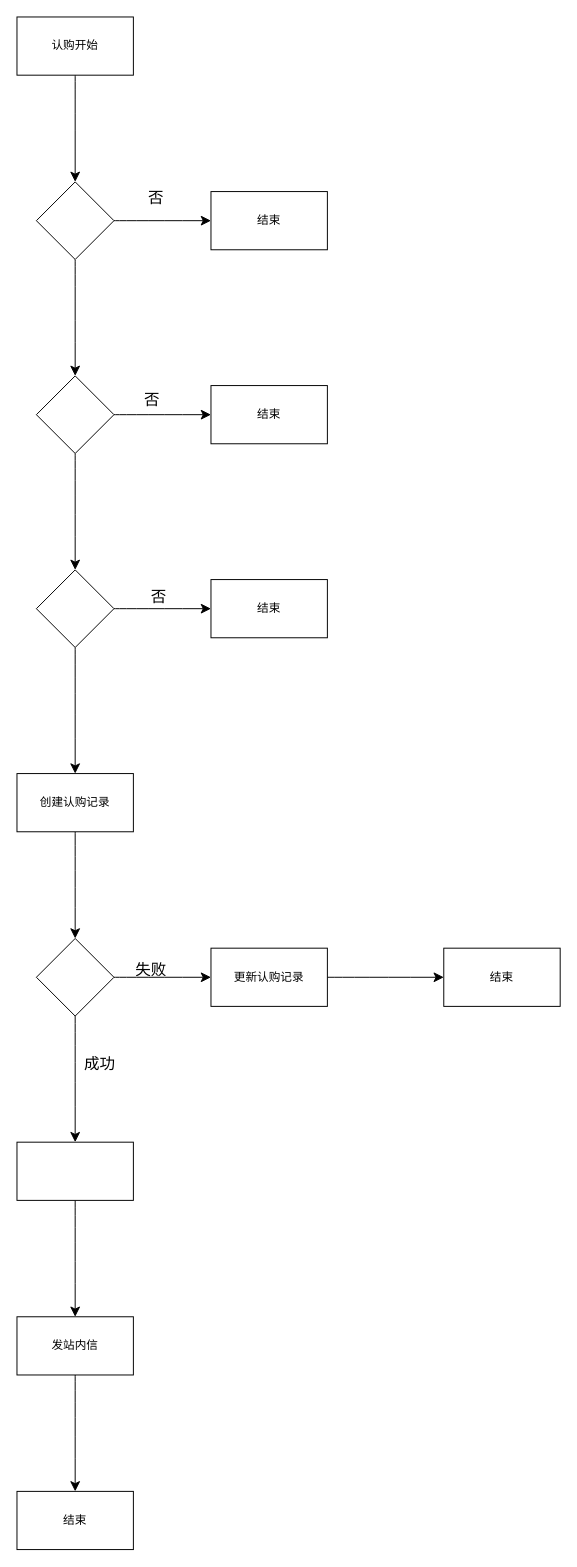
The diagram is 577 pixels wide and 1567 high, and some of its shapes have lost their labels. Here are the shapes that lost their labels. From the top down, the centre of each, then its label:
At (74,220): "是否在认购期".
At (74,414): "认购数量是否大于最小认购".
At (74,608): "用户资产是否足够".
At (74,977): "扣减资产".
At (74,1170): "更新认购记录 更新用户项目认购 更新项目统计".
